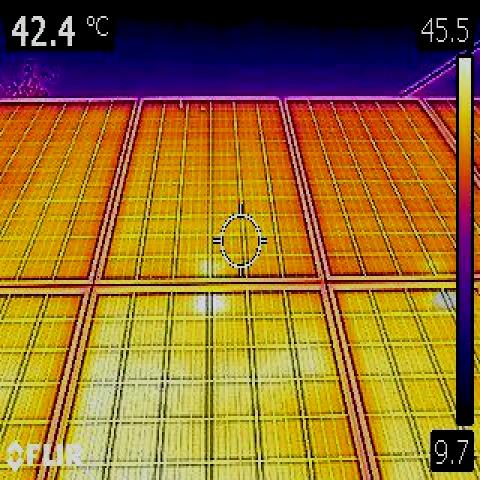fault: (196, 295, 224, 317), (432, 290, 456, 310)
